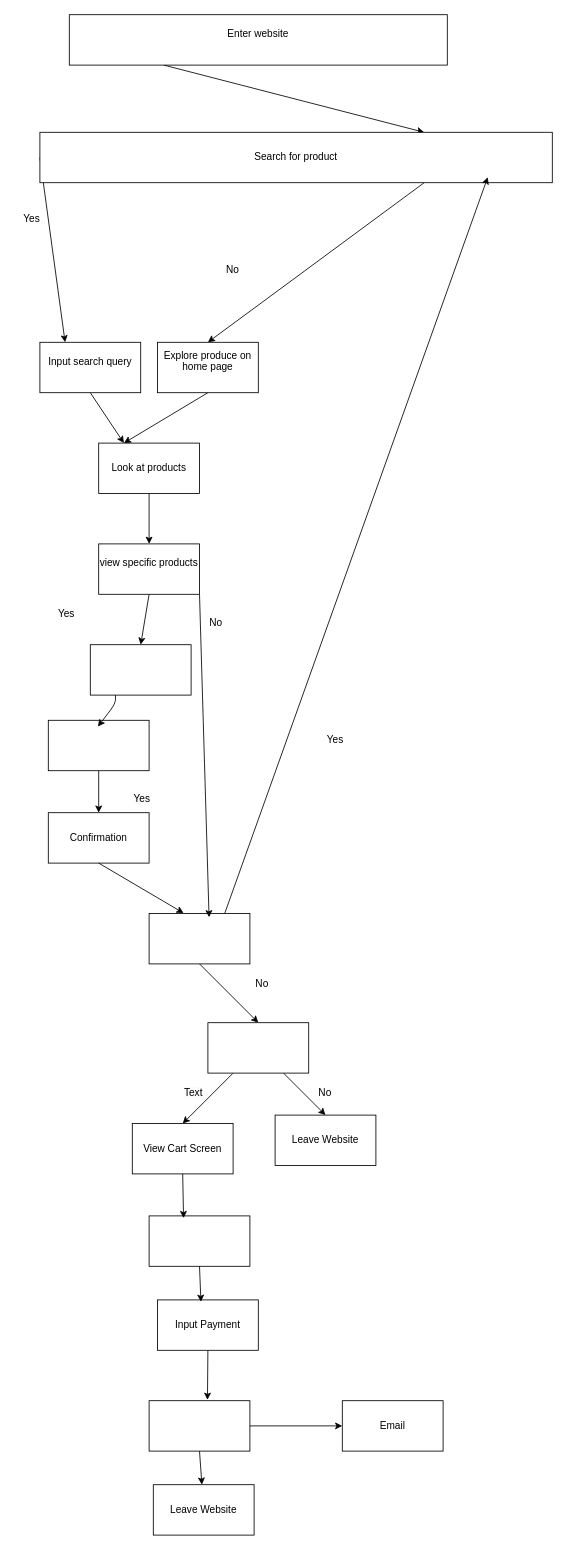
Some shapes in this 567 by 1550 pixel diagram are drawn without their labels. The shapes that lost their labels are listed below. From the top down, each one's centre as x and y in pixels, then its label:
At [140,669]: "Open product page".
At [98,745]: "Add Item to cart".
At [199,938]: "Continue shopping?".
At [258,1047]: "Checkout".
At [199,1240]: "View payment page".
At [199,1425]: "Order Confirmation".
